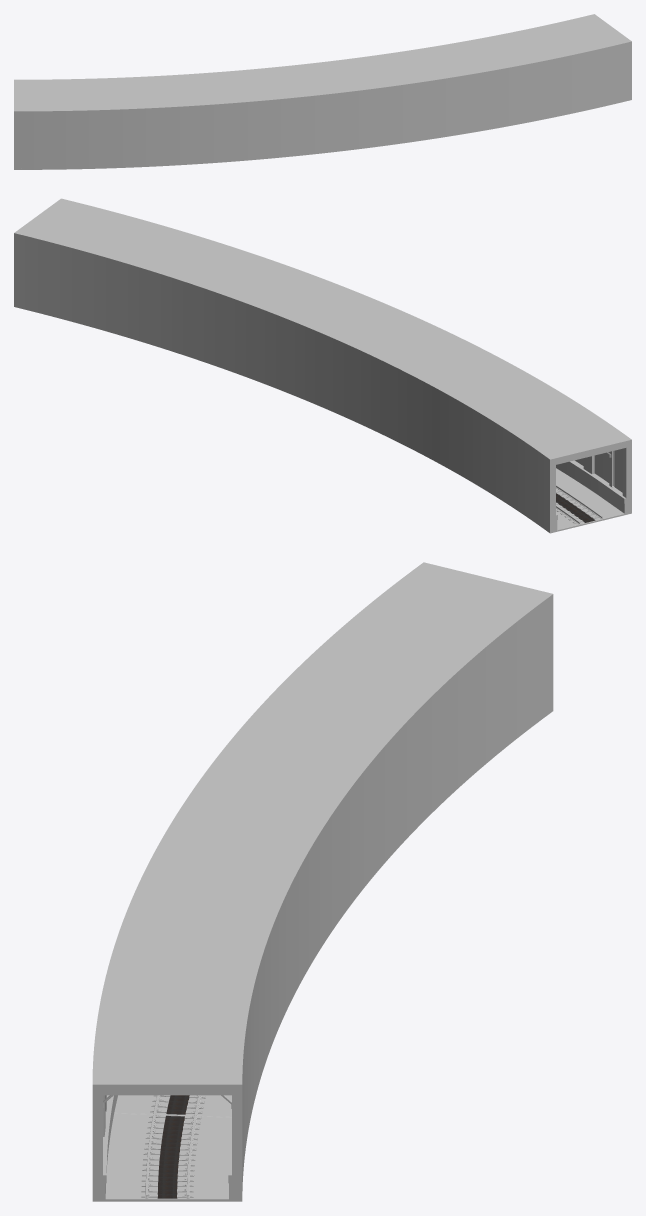
File: SM_Tunnel_Turn_Long_A_L.fbx
3 renders of one model, top to bottom at view 1: azimuth 30°, elevation 25°; view 2: azimuth 150°, elevation 25°; view 3: azimuth 270°, elevation 25°, orthographic. The views are drawn at different scales.
Parts seen in each view (by area): view 1: SM_Tunnel_Turn_Long_A_L; view 2: SM_Tunnel_Turn_Long_A_L; view 3: SM_Tunnel_Turn_Long_A_L.
Boxes of the visible parts, x1,y1,x2,y2 form: SM_Tunnel_Turn_Long_A_L: (14, 14, 631, 169); SM_Tunnel_Turn_Long_A_L: (14, 198, 631, 533); SM_Tunnel_Turn_Long_A_L: (92, 562, 553, 1201).
Bounding box in the file's own units: 4950 × 517 × 1846.
